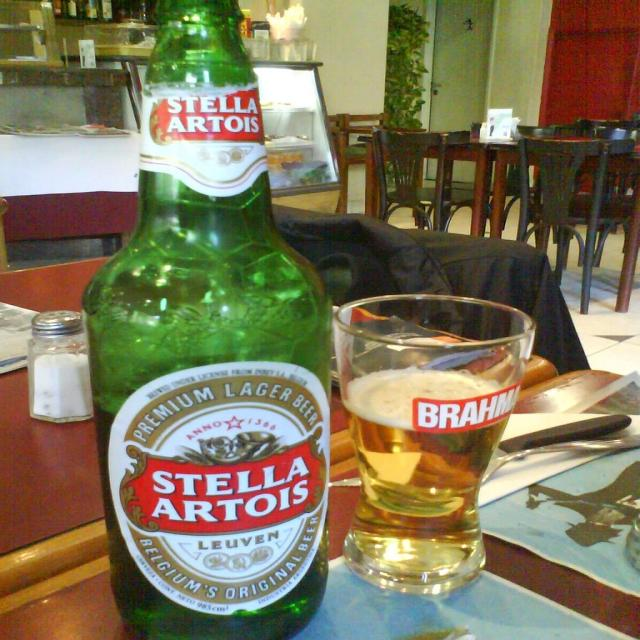stellaartois: (119, 376, 328, 606), (150, 88, 265, 145)
